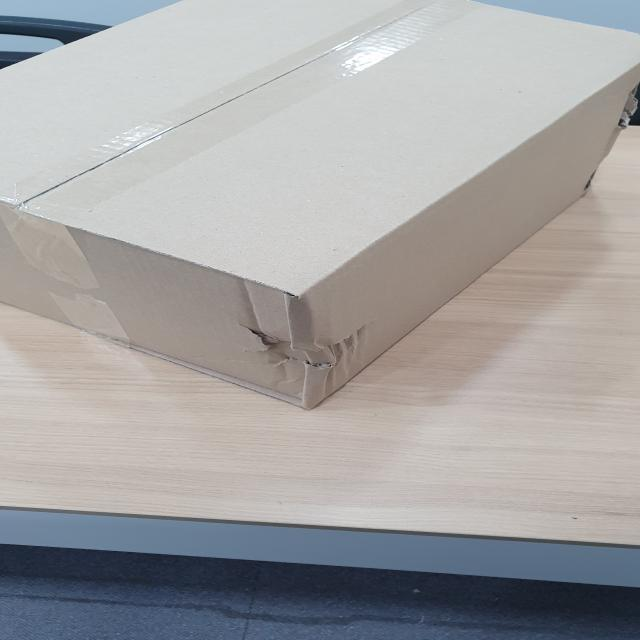hole: (227, 309, 372, 385)
